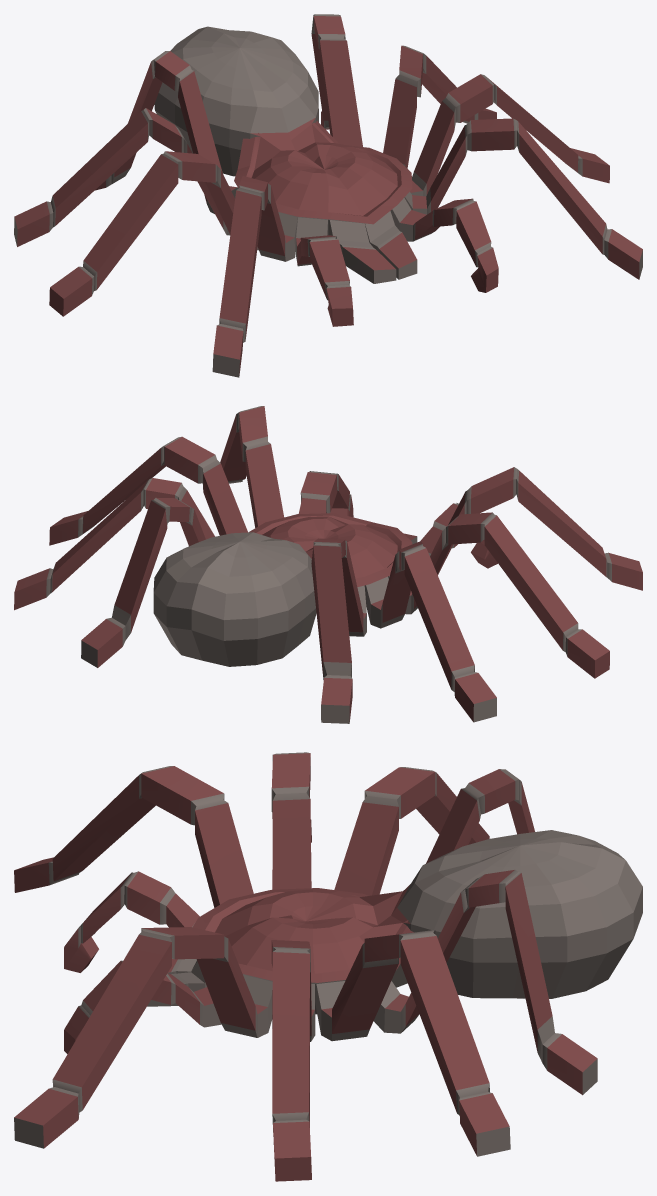
File: spider.fbx
3 views of the same model, one above another, from view 1: azimuth 30°, elevation 25°; view 2: azimuth 150°, elevation 25°; view 3: azimuth 270°, elevation 25° (orthographic). The views are drawn at different scales.
Visible parts, largest first — view 1: pCylinder2; view 2: pCylinder2; view 3: pCylinder2.
Boxes of the visible parts, box(x1,y1,x2,y2) form: pCylinder2: box(14, 14, 642, 377); pCylinder2: box(14, 406, 642, 723); pCylinder2: box(14, 752, 642, 1181).
Bounding box in the file's own units: 8.25 × 2.18 × 6.48.
